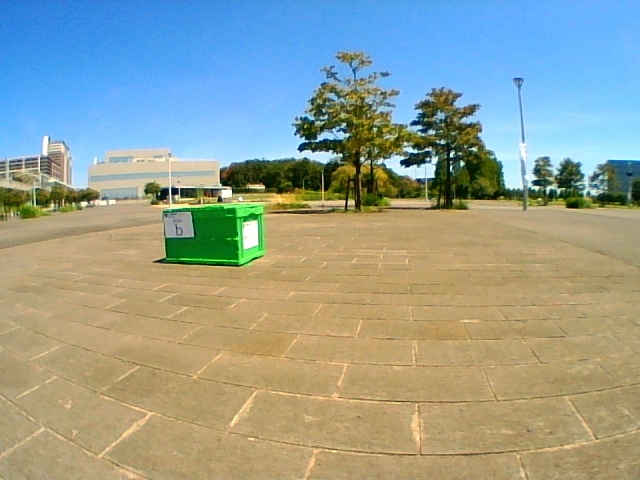green_box: (163, 205, 264, 265)
tag_b: (165, 212, 191, 238)
